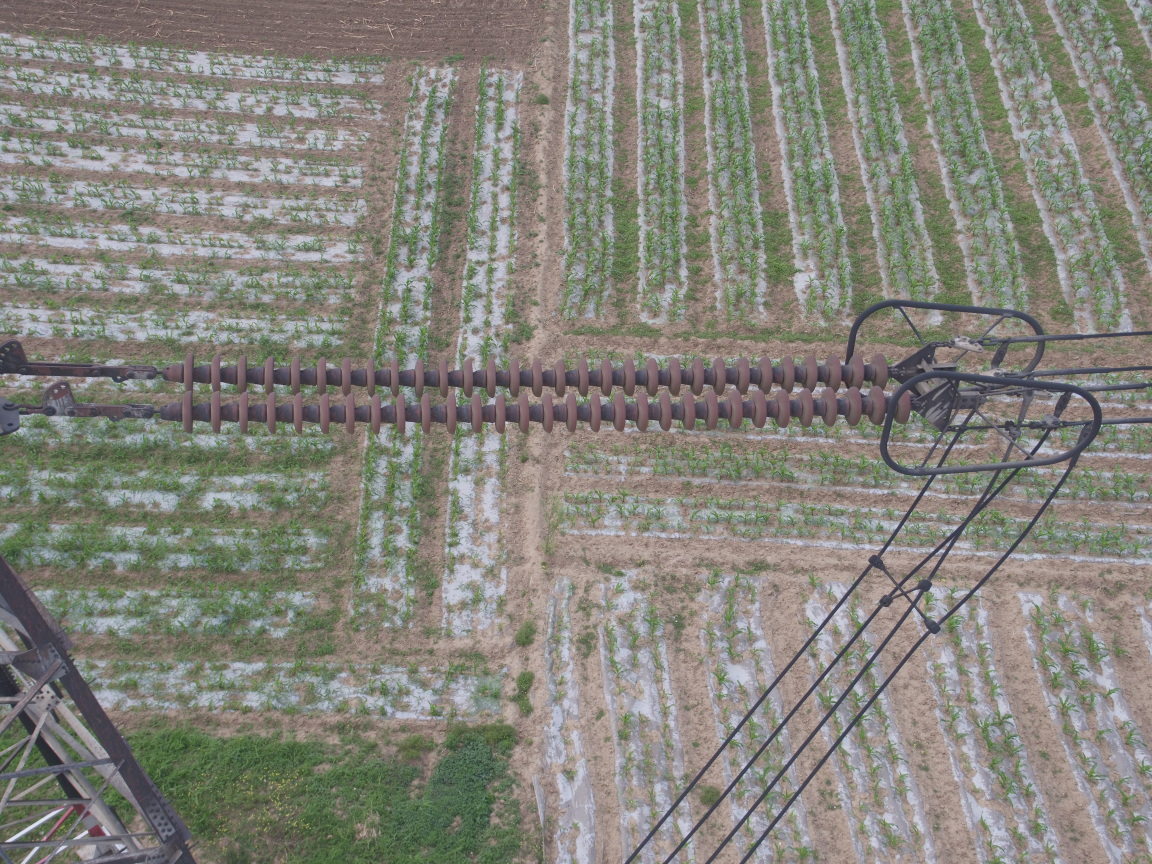insulator: (79, 345, 938, 436)
